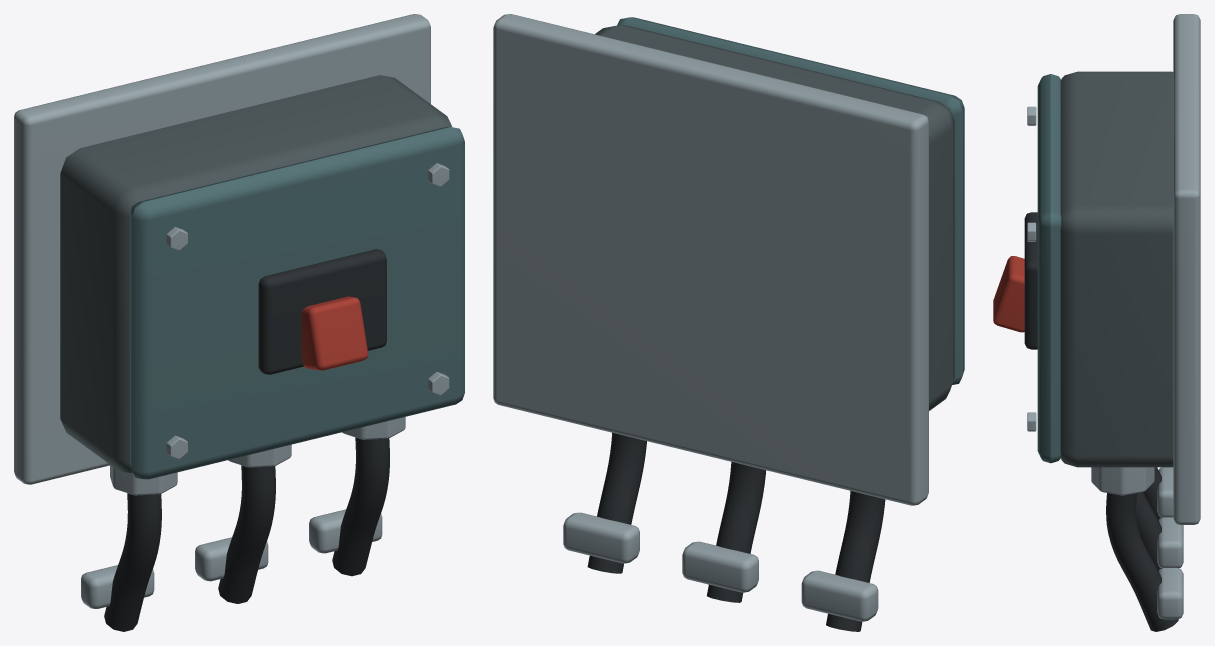
Rendered from HF2_GlandBox.fbx.
3 renders of one model, left to right at view 1: azimuth 30°, elevation 25°; view 2: azimuth 150°, elevation 25°; view 3: azimuth 270°, elevation 25°, orthographic. The views are drawn at different scales.
Visible parts, largest first — view 1: HF2_GlandBox; view 2: HF2_GlandBox; view 3: HF2_GlandBox.
Part boxes in pixels (x1,y1,x2,y2): HF2_GlandBox: (14, 14, 464, 631); HF2_GlandBox: (493, 14, 964, 631); HF2_GlandBox: (993, 14, 1200, 631).
Bounding box in the file's own units: 44 × 53.95 × 21.31.
